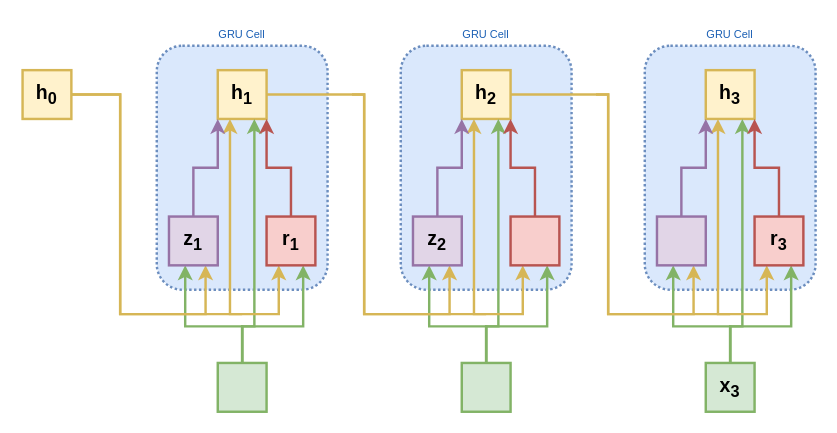
Some shapes in this 837 by 433 pixel diagram are drawn without their labels. Each missing label, with the box of its shape:
r 2: (509, 215, 560, 266)
x 1: (216, 361, 267, 412)
x 2: (460, 361, 511, 412)
z 3: (655, 215, 706, 266)
